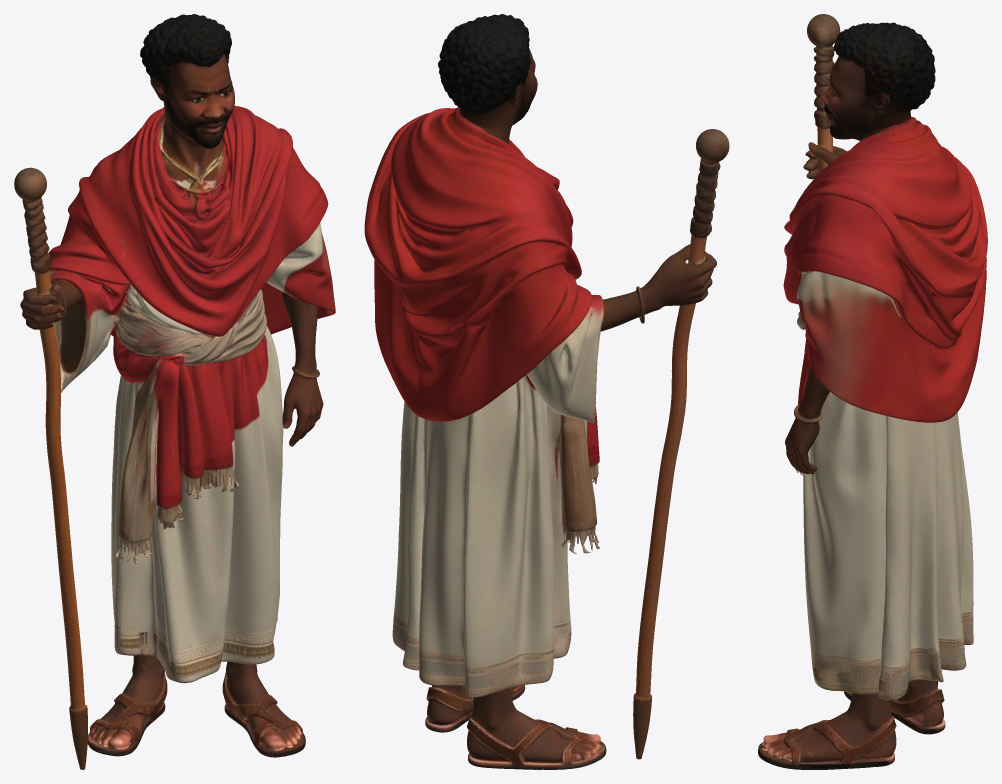
File: kaldi.glb
3 views of the same model, side by side, from view 1: azimuth 30°, elevation 25°; view 2: azimuth 150°, elevation 25°; view 3: azimuth 270°, elevation 25° (orthographic). The views are drawn at different scales.
Size of the model in its own units: 0.9228 by 1.9 by 0.5562.
1 material, 1 textured.
